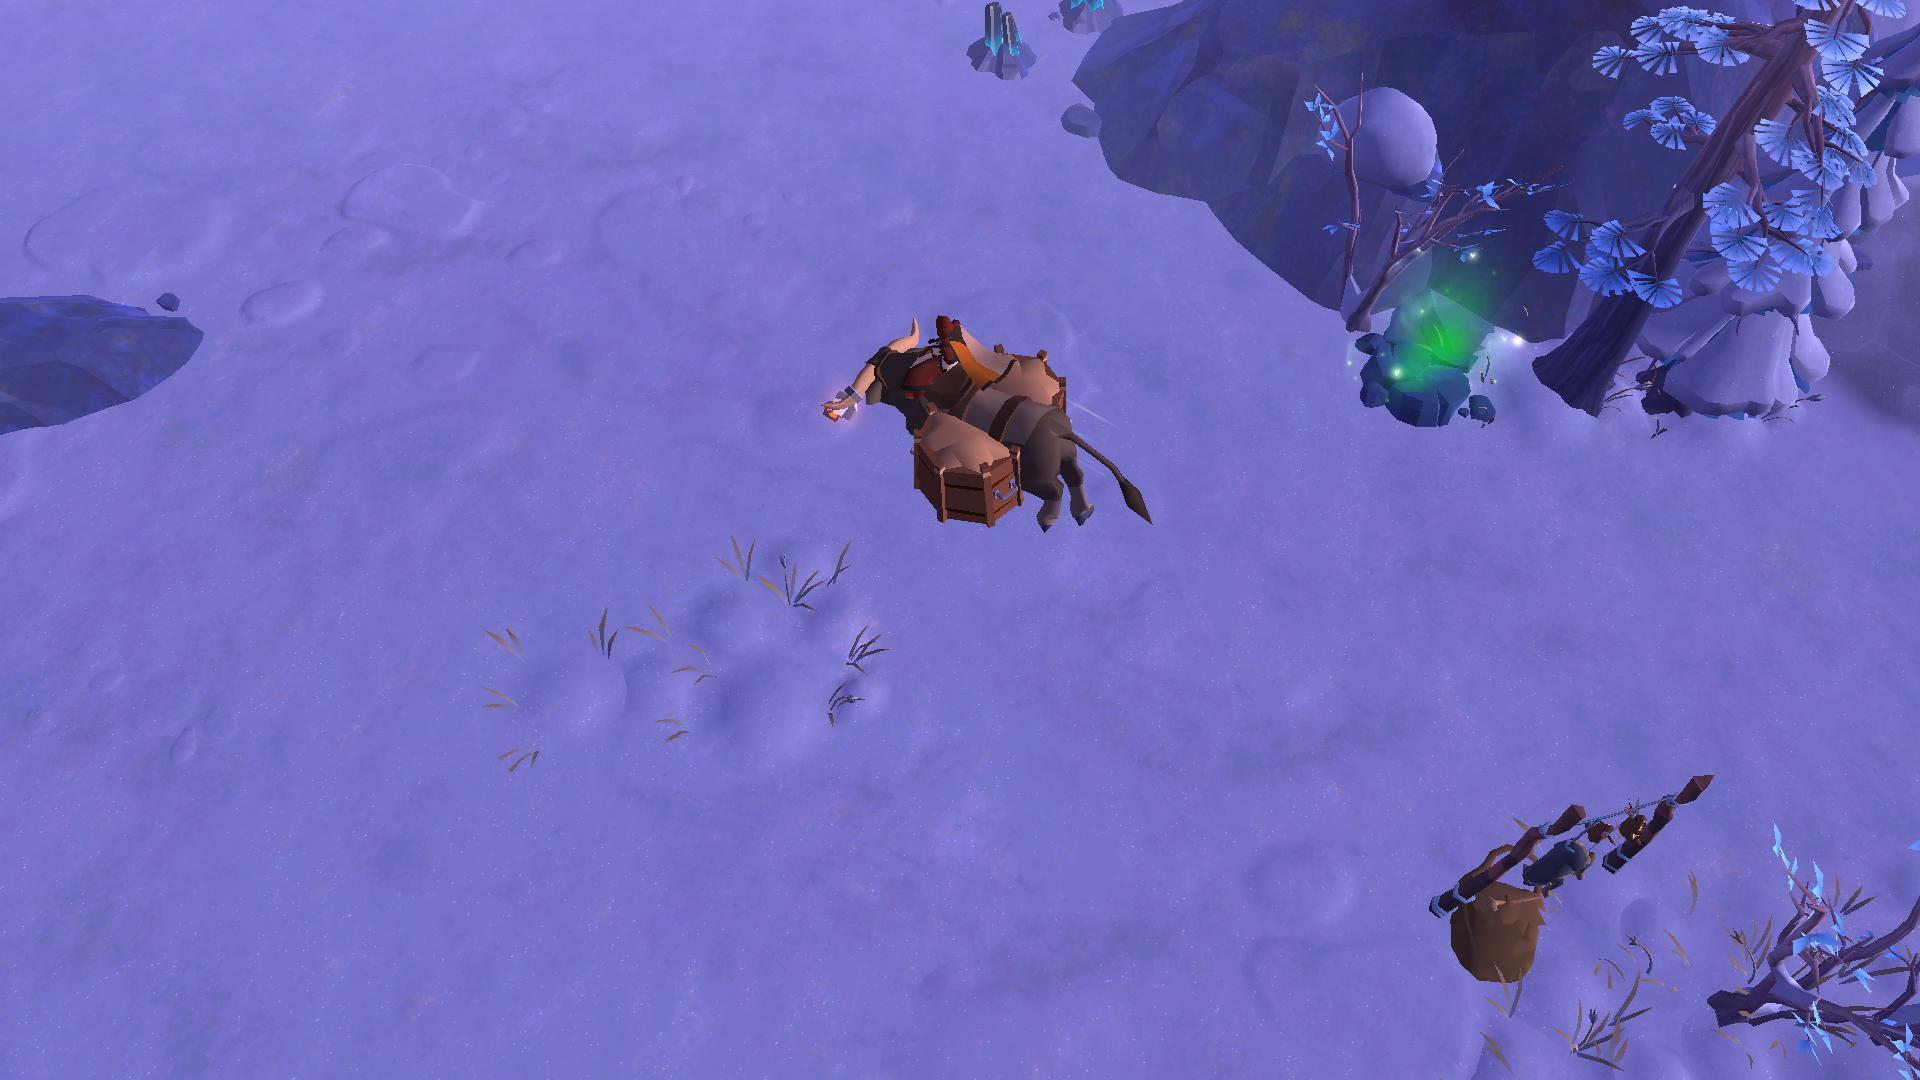ore_t4: (977, 0, 1033, 63)
